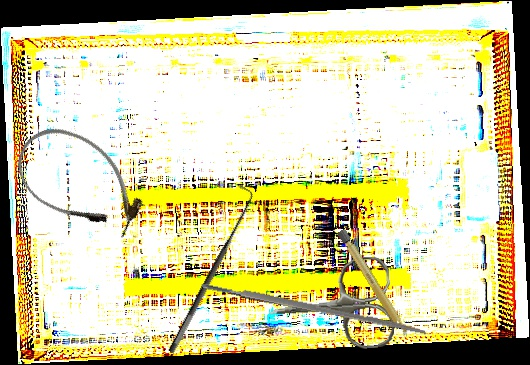Cannula: (1, 110, 159, 254)
Hook Surgical: (155, 184, 261, 356)
Iris Scissors: (265, 255, 396, 357)
Scalpel Handle: (199, 278, 429, 338), (335, 227, 412, 341)
